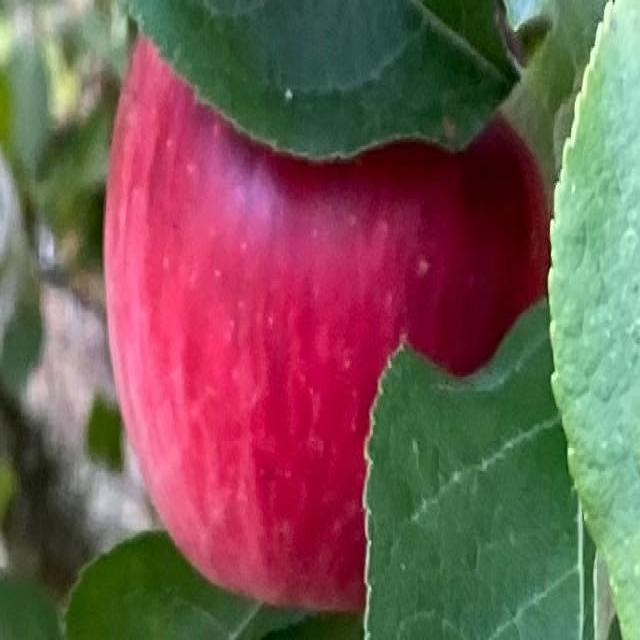Rotten Apple: (105, 30, 552, 610)
